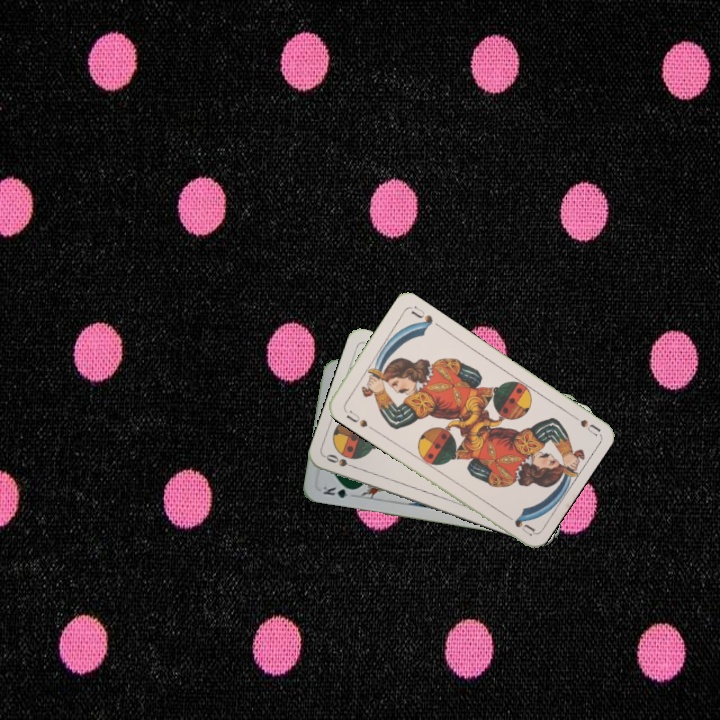GK: (319, 482, 359, 501)
SO: (322, 450, 361, 472)
SU: (564, 409, 602, 438), (342, 406, 370, 430)
